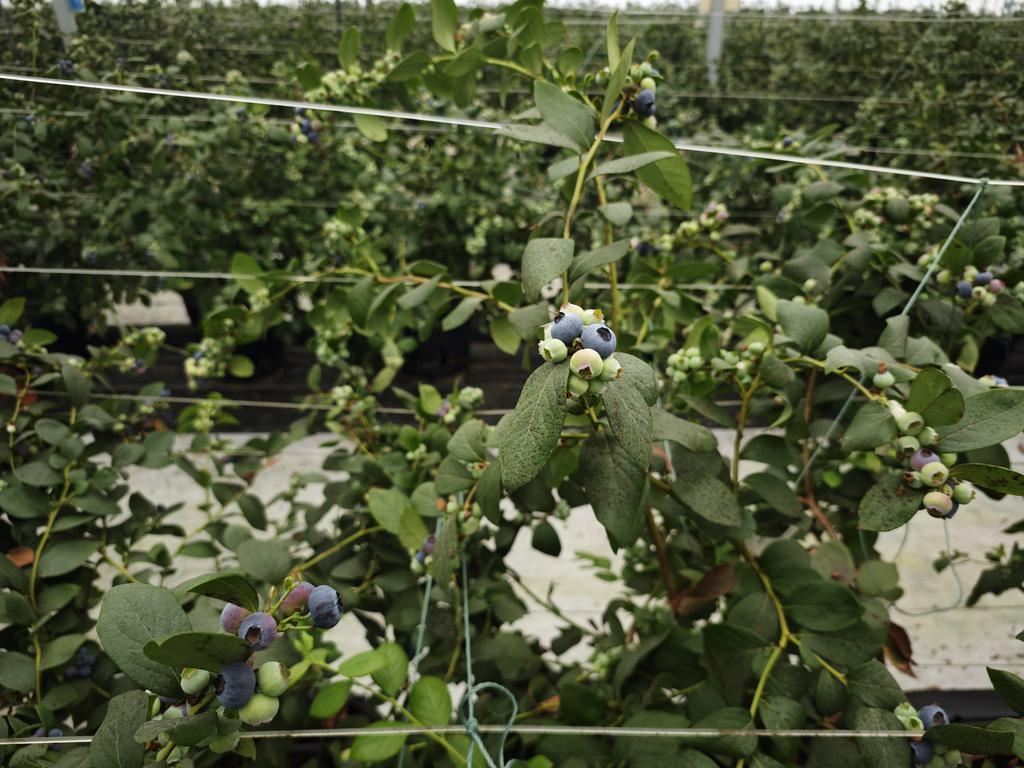RipeBlueBerry: (586, 318, 624, 357), (549, 309, 584, 341)
Semi-RipeBlueBerry: (311, 588, 347, 628), (284, 581, 310, 609)
UnripeBlueBerry: (213, 600, 248, 637), (573, 350, 607, 388), (926, 463, 951, 489)
